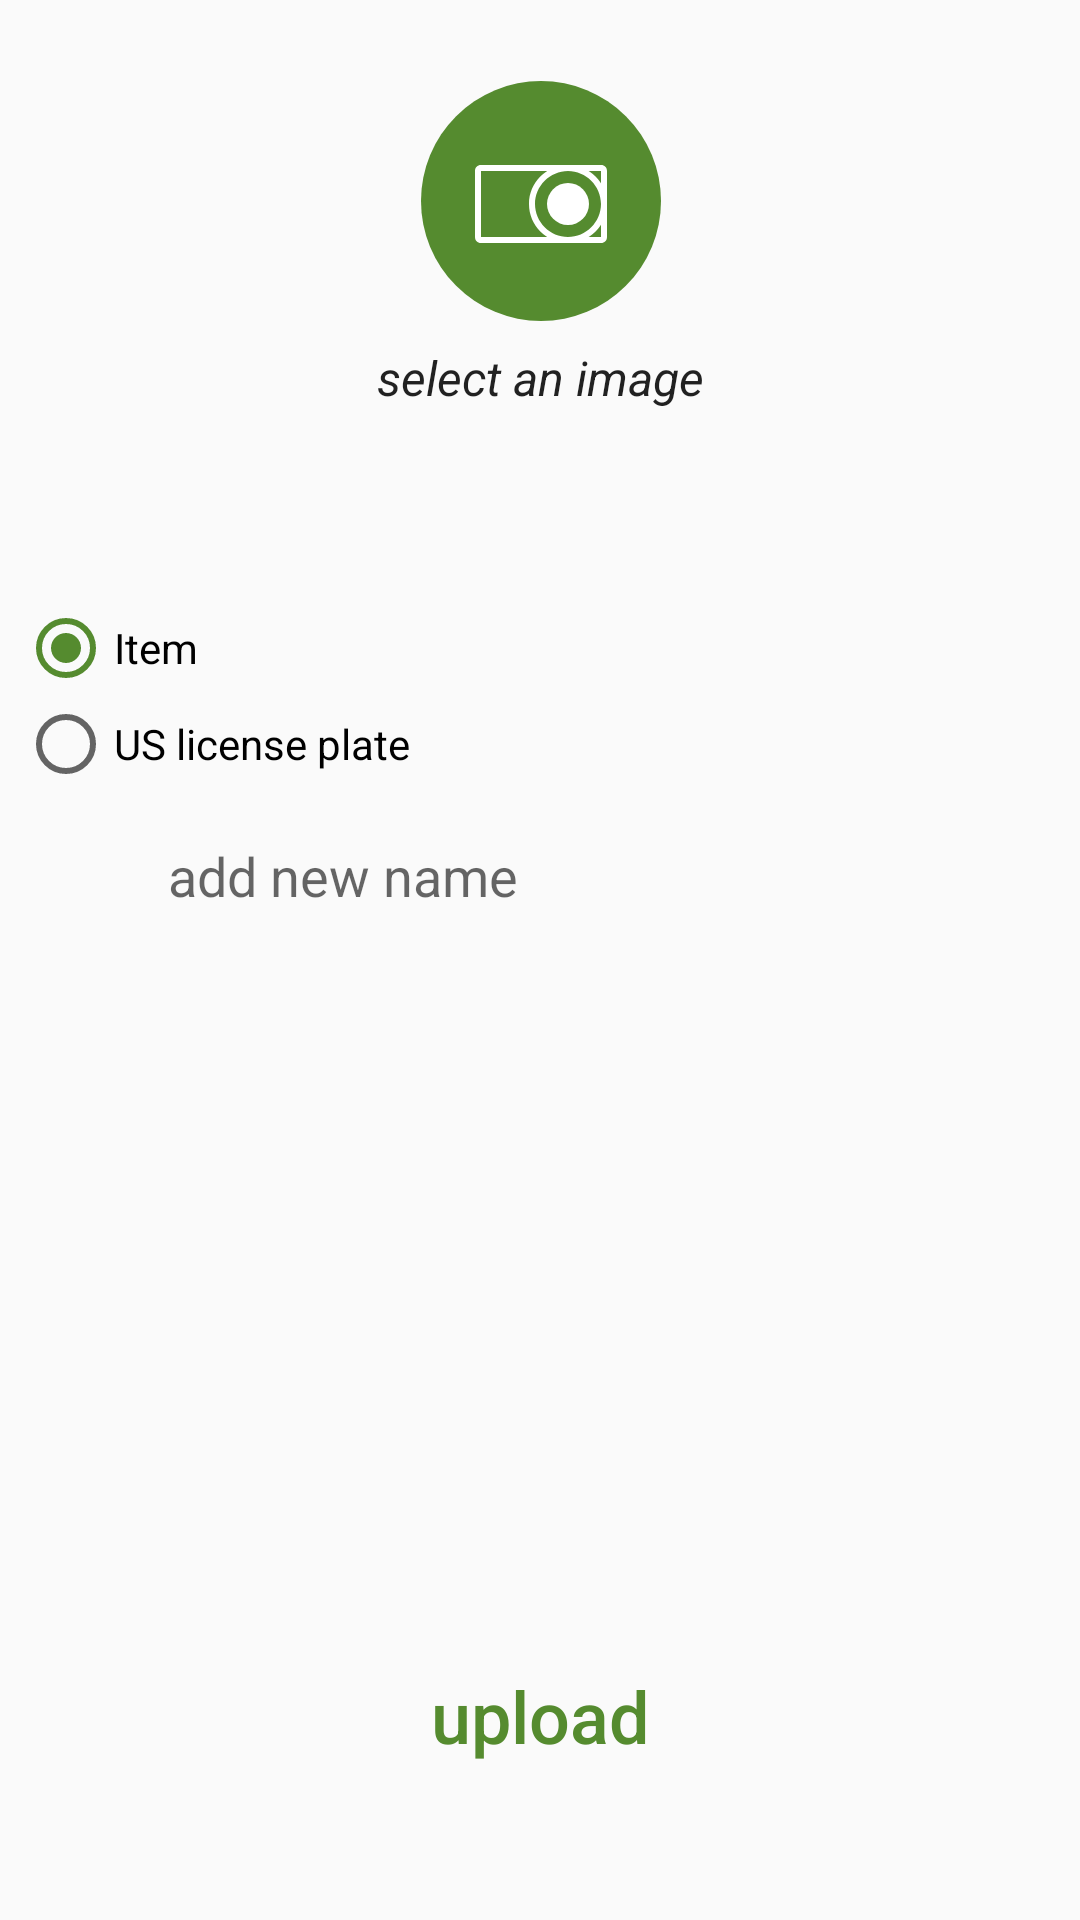

Screen size 1080w x 1920h. Icon name, then its box in pixels as [x1,y1,x2,y2]:
camera phone anim: [421,81,661,321]
